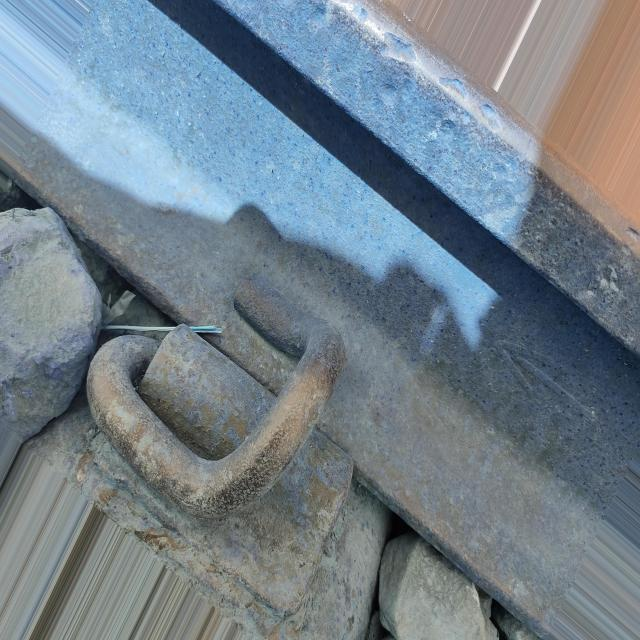Good Fasteners: (59, 240, 409, 640)
